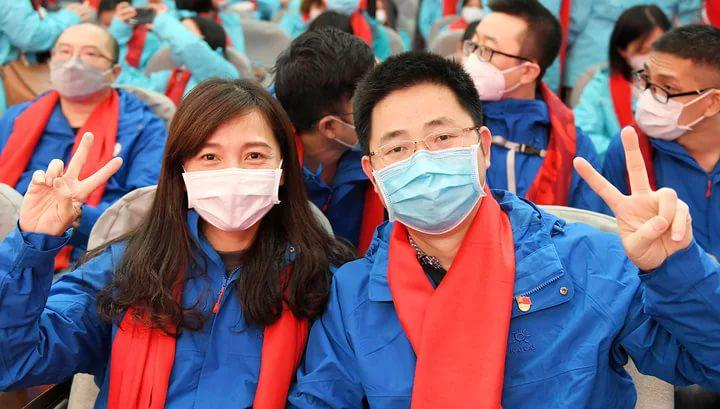mask: (371, 91, 478, 235), (185, 112, 285, 229), (630, 54, 695, 141), (47, 25, 116, 100), (458, 20, 517, 99)
